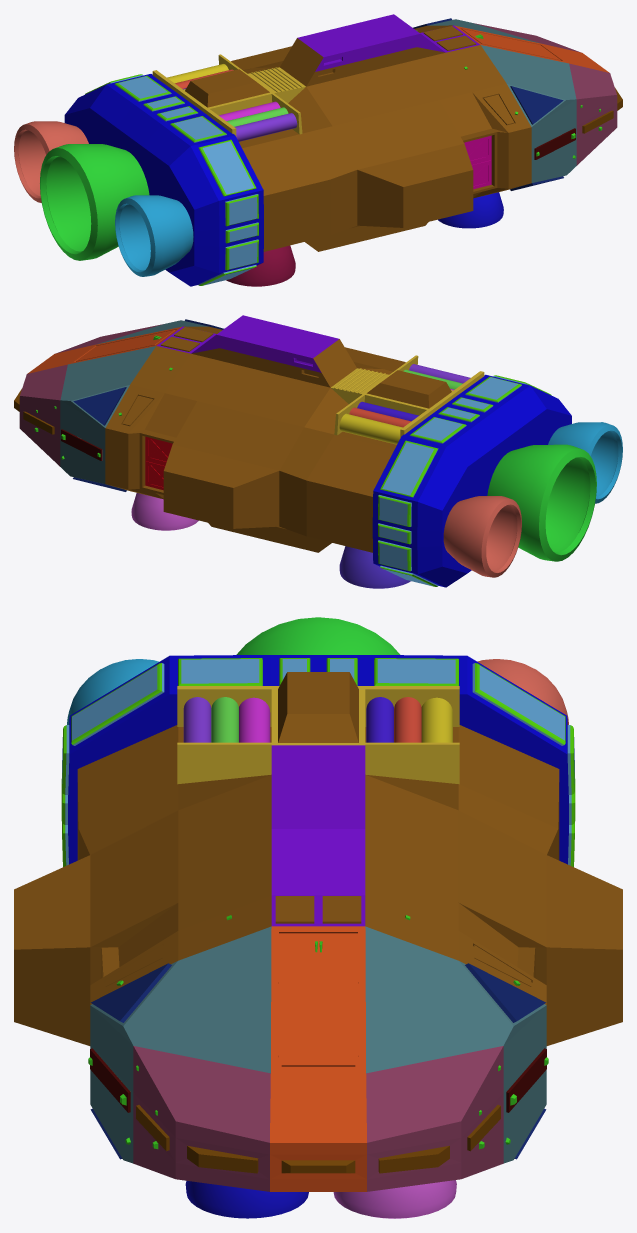
The model's file is CapStoneSpaceShipFINAL.fbx.
The picture shows the model from 3 angles, top to bottom: view 1: azimuth 30°, elevation 25°; view 2: azimuth 150°, elevation 25°; view 3: azimuth 270°, elevation 25°; orthographic projection. The views are drawn at different scales.
Parts seen in each view (by area): view 1: Cube.031, Cube.030, Cylinder.041, Cube.001, Cube.010, Cylinder.045, Cube.007, Cube.006, Cube.008, Cylinder.044, Cube.011, Cube.005 (+10 smaller); view 2: Cube.031, Cube.030, Cylinder.041, Cube.001, Cube.010, Cylinder.044, Cube.007, Cube.006, Cube.008, Cylinder.045, Cube.011, Cube.005 (+10 smaller); view 3: Cube.031, Cube.001, Cube.006, Cube.005, Cube.007, Cube.030, Cube.008, Cube.010, Cube.003, Cylinder.041, Cube.011, Cube.002 (+11 smaller).
Boxes of the visible parts, box(x1,y1,x2,y2) form: Cube.031: box(185, 25, 531, 251); Cube.030: box(64, 74, 263, 286); Cylinder.041: box(40, 144, 149, 260); Cube.001: box(428, 19, 576, 182); Cube.010: box(107, 75, 258, 285); Cylinder.045: box(115, 195, 193, 276); Cube.007: box(297, 14, 479, 71); Cube.006: box(473, 23, 617, 165); Cube.008: box(152, 54, 305, 136); Cylinder.044: box(14, 121, 88, 202); Cube.011: box(85, 74, 258, 285); Cube.005: box(454, 25, 609, 72); Cube.031: box(105, 326, 451, 552); Cube.030: box(372, 374, 571, 587); Cylinder.041: box(487, 444, 596, 561); Cube.001: box(60, 320, 208, 483); Cube.010: box(378, 376, 528, 586); Cylinder.044: box(443, 496, 521, 577); Cube.007: box(156, 315, 338, 372); Cube.006: box(19, 324, 163, 466); Cube.008: box(331, 355, 484, 437); Cylinder.045: box(548, 422, 622, 503); Cube.011: box(378, 375, 551, 586); Cube.005: box(27, 326, 181, 373); Cube.031: box(14, 672, 622, 1091); Cube.001: box(90, 926, 546, 1163); Cube.006: box(133, 1046, 503, 1191); Cube.005: box(270, 926, 366, 1191); Cube.007: box(271, 745, 365, 926); Cube.030: box(68, 655, 568, 864); Cube.008: box(177, 686, 459, 784); Cube.010: box(62, 659, 574, 865); Cube.003: box(136, 1105, 500, 1173); Cylinder.041: box(236, 617, 400, 654); Cube.011: box(61, 658, 575, 866); Cube.002: box(90, 963, 546, 1159).
Size of the model in its own units: 2154 by 727 by 1205.
